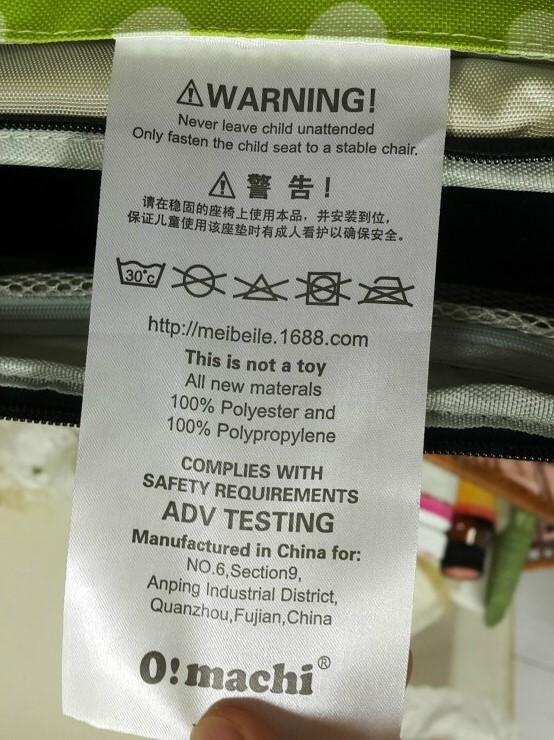ER_no_bleach: (233, 265, 287, 310)
ER_no_dry_clean: (171, 258, 224, 302)
ER_no_iron: (361, 271, 413, 313)
ER_no_tumble_dry: (298, 265, 344, 311)
ER_wash_30: (114, 248, 168, 297)
